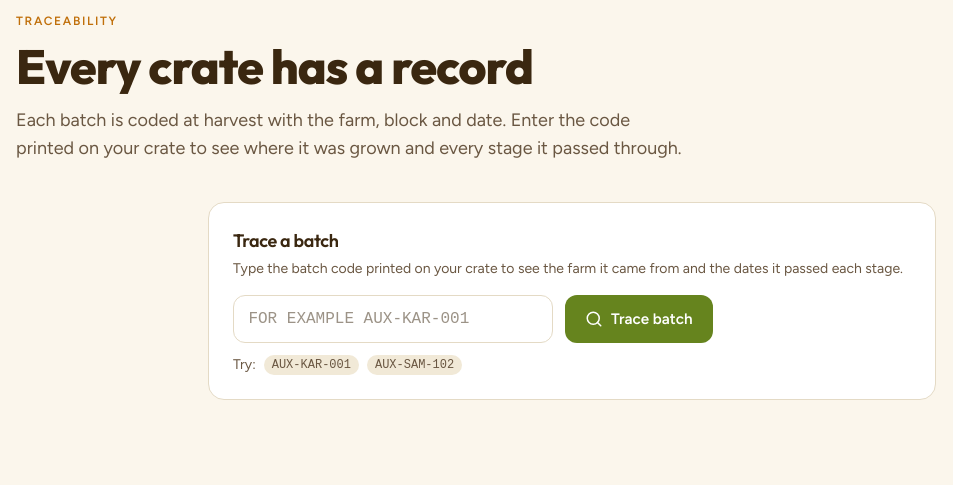
Test: Trace a batch › says so, with a contact link, when the code is not found
Expected: the button "AUX-KAR-001" is shown, left=264, top=355, right=359, bottom=375
Type "NOPE-1" into the field named "Batch code" at (393, 319), box left=233, top=295, right=553, bottom=343
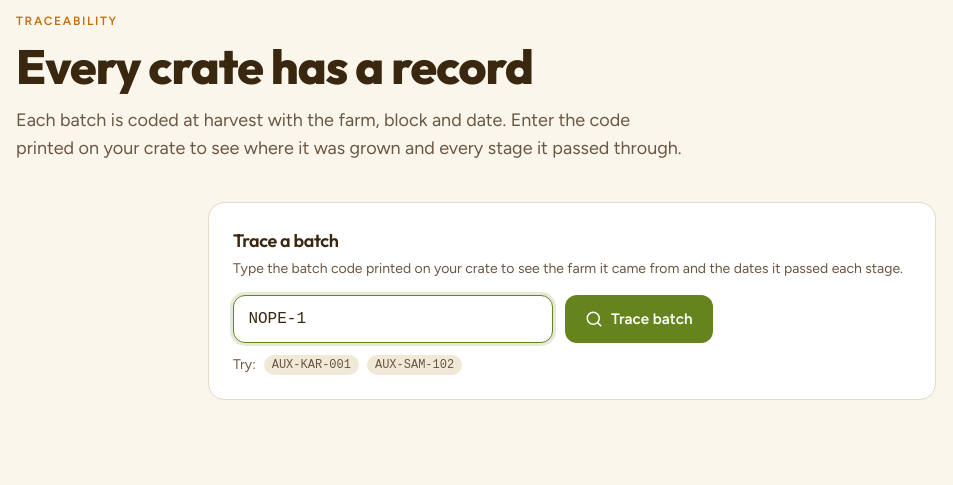
Click the button "Trace batch" at (639, 319), box left=565, top=295, right=712, bottom=343
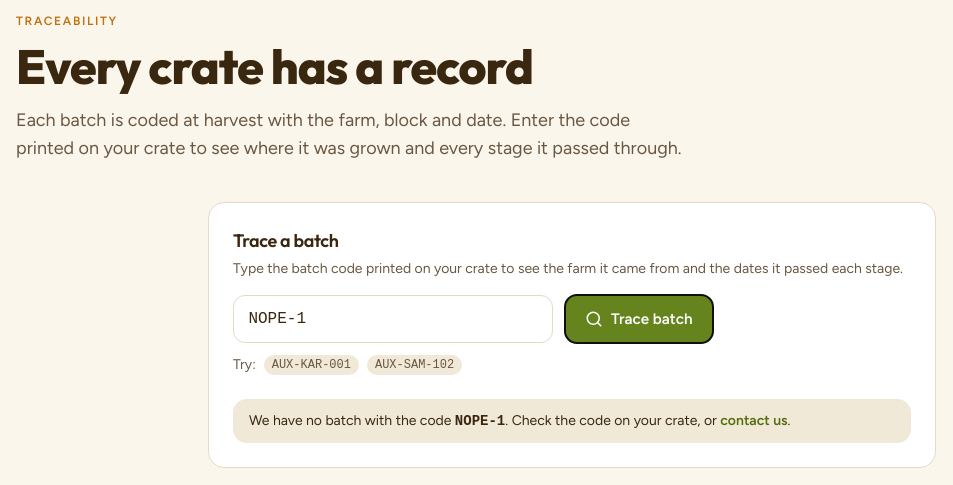
Expected: the text "no batch with the code" is shown, left=249, top=412, right=451, bottom=429
